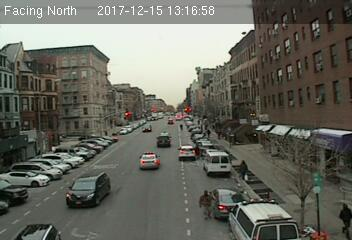car: (65, 172, 111, 206), (210, 186, 246, 222), (178, 145, 196, 160), (157, 135, 170, 147)
pedestrian: (237, 159, 249, 182)
police: (225, 198, 301, 240), (139, 151, 160, 170)
truck: (204, 151, 232, 176)
